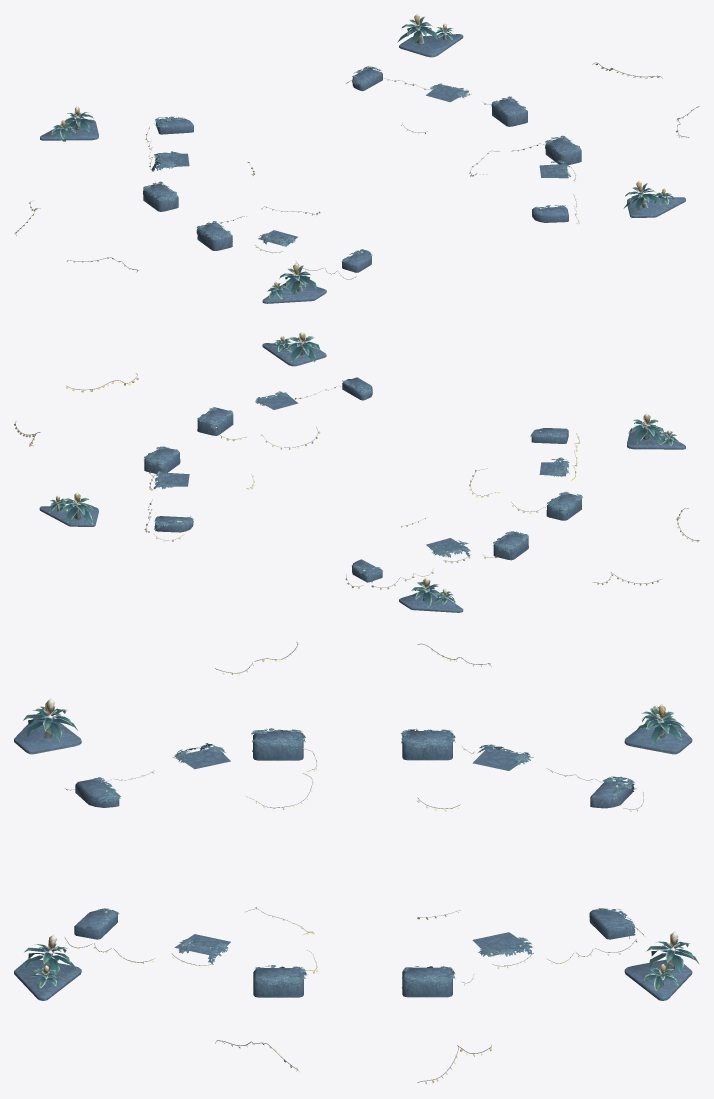
Rendered from pref_sm_beach_bk_winter_pointmol_centerplant_C01_lv1.fbx.
The picture shows the model from 3 angles, top to bottom: view 1: azimuth 30°, elevation 25°; view 2: azimuth 150°, elevation 25°; view 3: azimuth 270°, elevation 25°; orthographic projection. The views are drawn at different scales.
Parts seen in each view (by area): view 1: sm_beach_bk_winter_pointmol_centerplant_C01a_lv1, sm_beach_bk_winter_pointmol_centerplant_C01c_lv1, sm_beach_bk_winter_pointmol_centerplant_C01b_lv1; view 2: sm_beach_bk_winter_pointmol_centerplant_C01a_lv1, sm_beach_bk_winter_pointmol_centerplant_C01c_lv1, sm_beach_bk_winter_pointmol_centerplant_C01b_lv1; view 3: sm_beach_bk_winter_pointmol_centerplant_C01a_lv1, sm_beach_bk_winter_pointmol_centerplant_C01c_lv1, sm_beach_bk_winter_pointmol_centerplant_C01b_lv1.
Part boxes in pixels (bbox=[...]): sm_beach_bk_winter_pointmol_centerplant_C01a_lv1: bbox=[352, 14, 685, 222]; sm_beach_bk_winter_pointmol_centerplant_C01c_lv1: bbox=[40, 106, 372, 303]; sm_beach_bk_winter_pointmol_centerplant_C01b_lv1: bbox=[14, 62, 699, 279]; sm_beach_bk_winter_pointmol_centerplant_C01a_lv1: bbox=[39, 332, 372, 532]; sm_beach_bk_winter_pointmol_centerplant_C01c_lv1: bbox=[352, 413, 685, 612]; sm_beach_bk_winter_pointmol_centerplant_C01b_lv1: bbox=[14, 373, 699, 589]; sm_beach_bk_winter_pointmol_centerplant_C01a_lv1: bbox=[14, 908, 699, 1000]; sm_beach_bk_winter_pointmol_centerplant_C01c_lv1: bbox=[14, 698, 692, 808]; sm_beach_bk_winter_pointmol_centerplant_C01b_lv1: bbox=[64, 641, 644, 1084].
Bounding box in the file's own units: 77.72 × 4.67 × 51.41.
